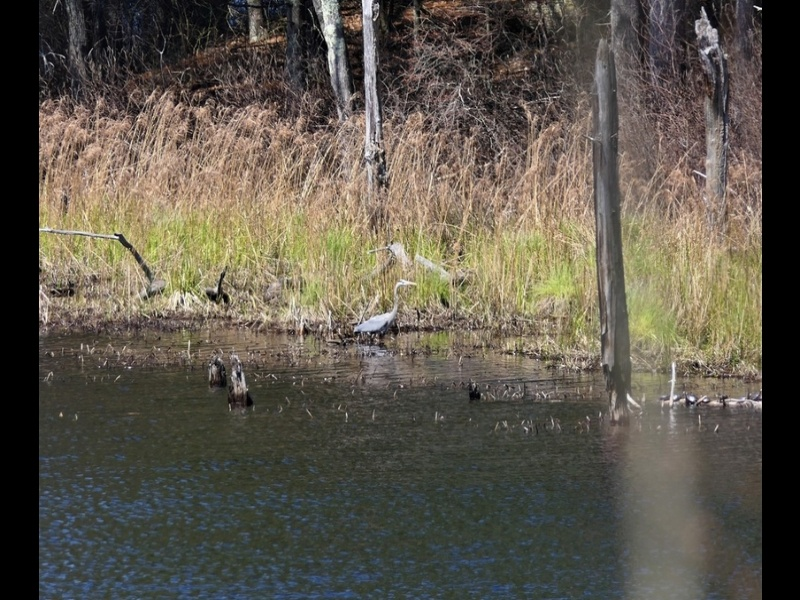heron: (352, 277, 418, 341)
